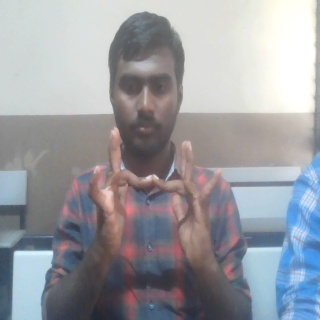Internet: (87, 123, 226, 267)
